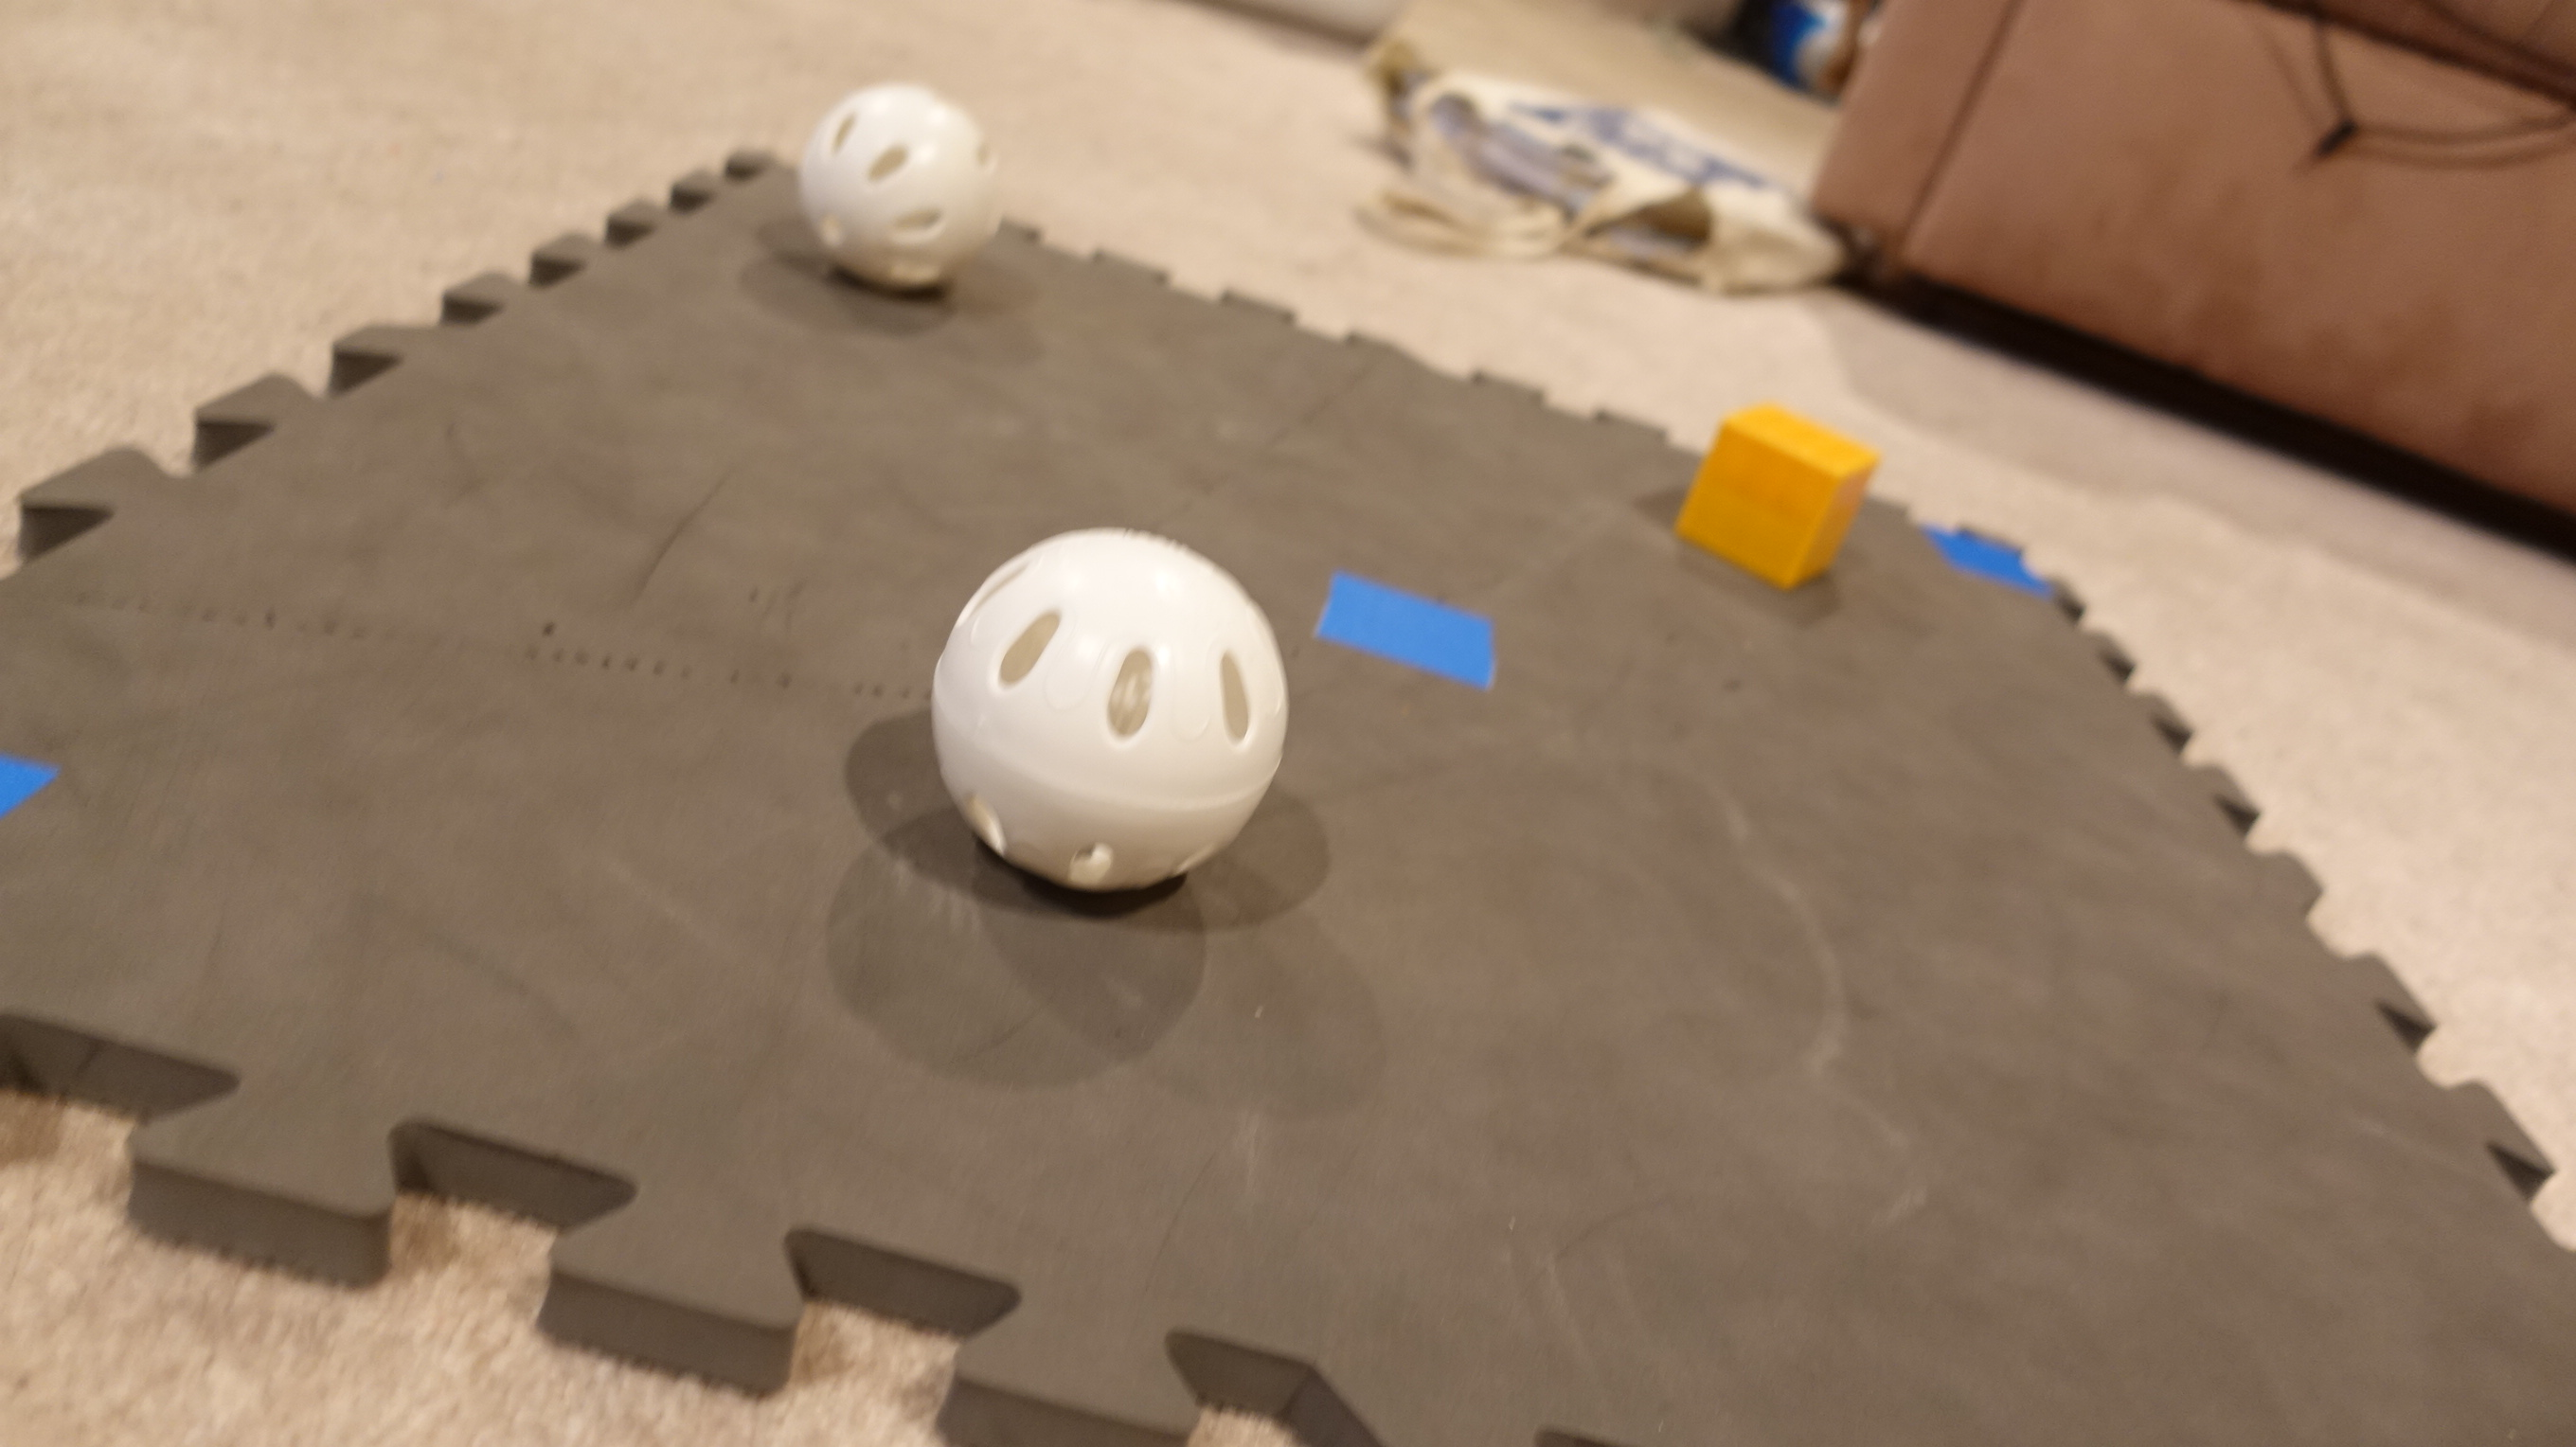gold: (1668, 393, 1884, 598)
silver: (908, 508, 1293, 920), (786, 76, 1023, 302)
